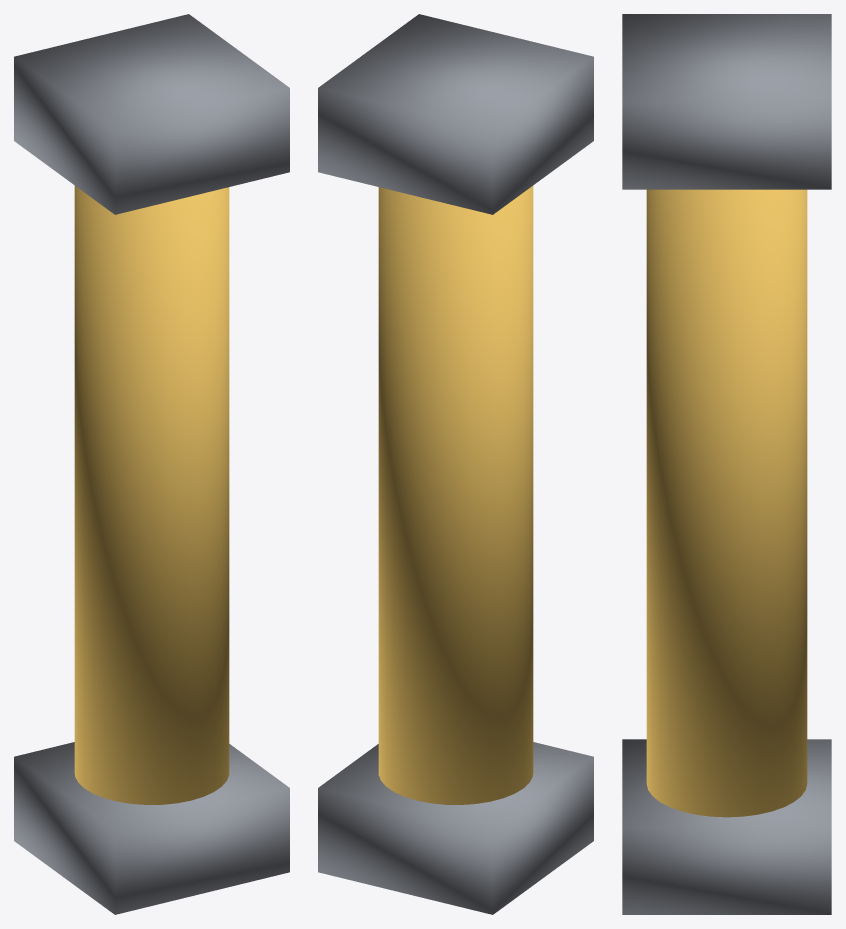
Rendered from test_props.glb.
3 renders of one model, left to right at view 1: azimuth 30°, elevation 25°; view 2: azimuth 150°, elevation 25°; view 3: azimuth 270°, elevation 25°, orthographic. The views are drawn at different scales.
Visible parts, largest first — view 1: TestHandle, TestHandle_MountTop, TestHandle_MountBottom; view 2: TestHandle, TestHandle_MountTop, TestHandle_MountBottom; view 3: TestHandle, TestHandle_MountTop, TestHandle_MountBottom.
Boxes of the visible parts, x1,y1,x2,y2 form: TestHandle: (74,186,229,804); TestHandle_MountTop: (14,14,289,214); TestHandle_MountBottom: (14,742,289,914); TestHandle: (378,186,533,804); TestHandle_MountTop: (318,14,593,214); TestHandle_MountBottom: (318,742,593,914); TestHandle: (646,189,807,817); TestHandle_MountTop: (622,14,831,189); TestHandle_MountBottom: (622,739,831,914).
Size of the model in its own units: 0.0394 by 0.169 by 0.0394.
